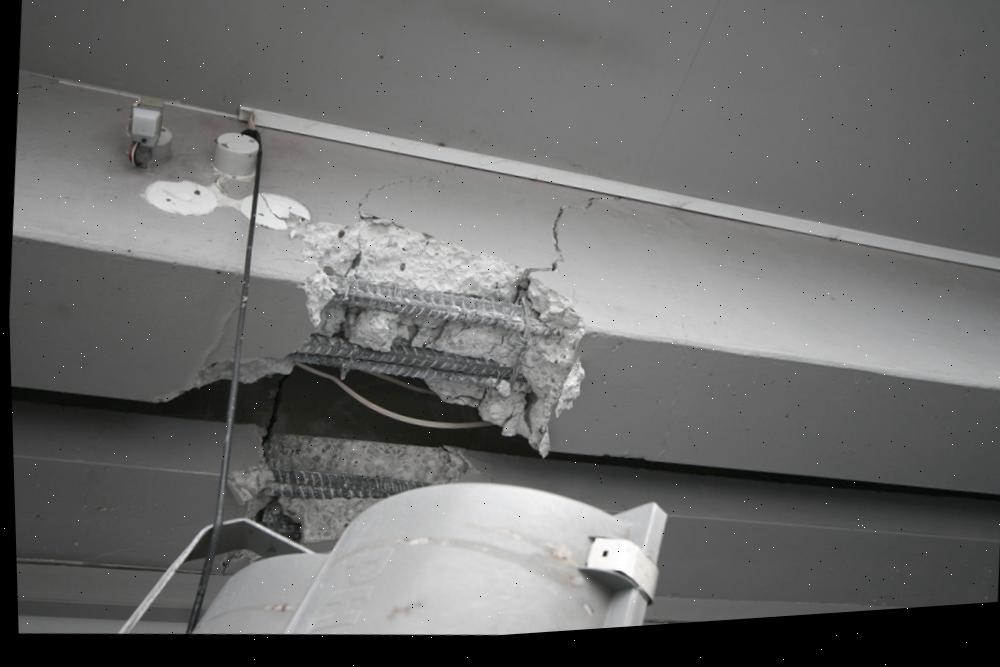exposed_rebar: (289, 333, 513, 386), (331, 277, 525, 330), (266, 469, 428, 499)
spalling: (239, 218, 585, 452), (227, 435, 466, 543)
